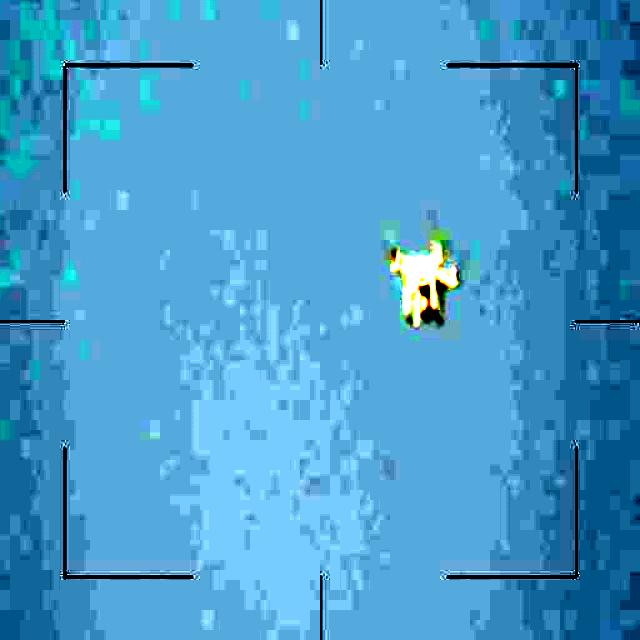bird: (376, 242, 466, 329)
